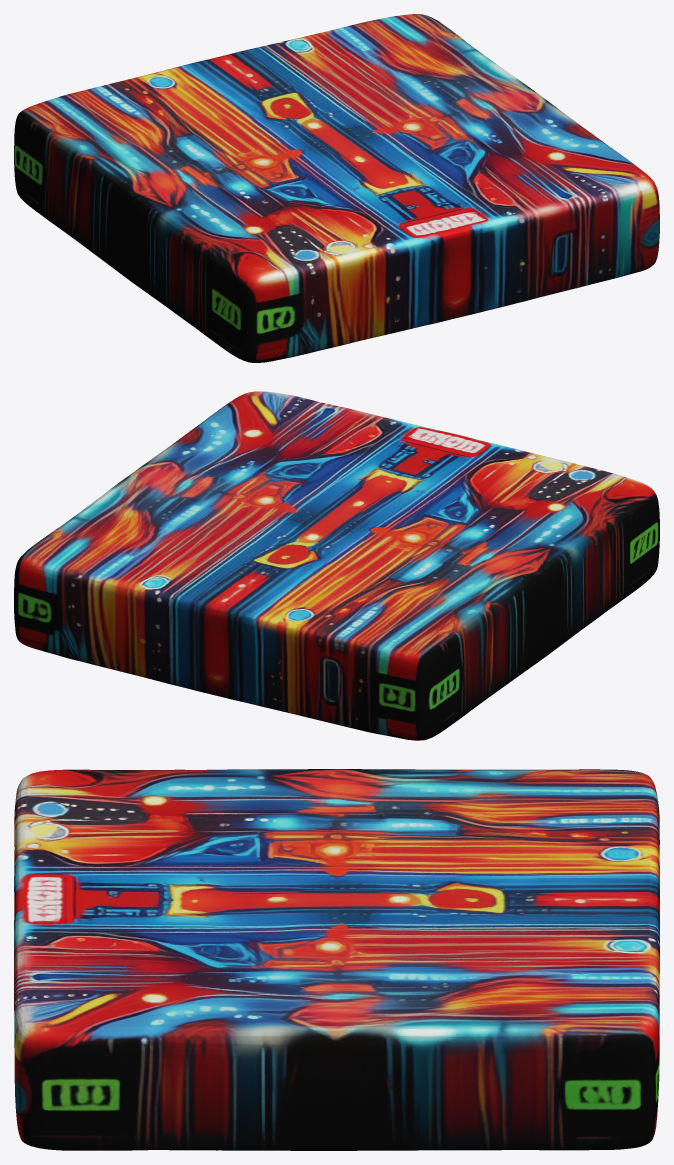
The model's file is trackmodele3d.glb.
3 renders of one model, top to bottom at view 1: azimuth 30°, elevation 25°; view 2: azimuth 150°, elevation 25°; view 3: azimuth 270°, elevation 25°, orthographic. The views are drawn at different scales.
Visible parts, largest first — view 1: world; view 2: world; view 3: world.
Boxes of the visible parts, <box> form: world: <box>14,14,659,362</box>; world: <box>14,391,659,740</box>; world: <box>14,769,659,1150</box>.
Bounding box in the file's own units: 0.9988 × 0.2037 × 0.9997.
Materials: 1 (1 with a texture image).
